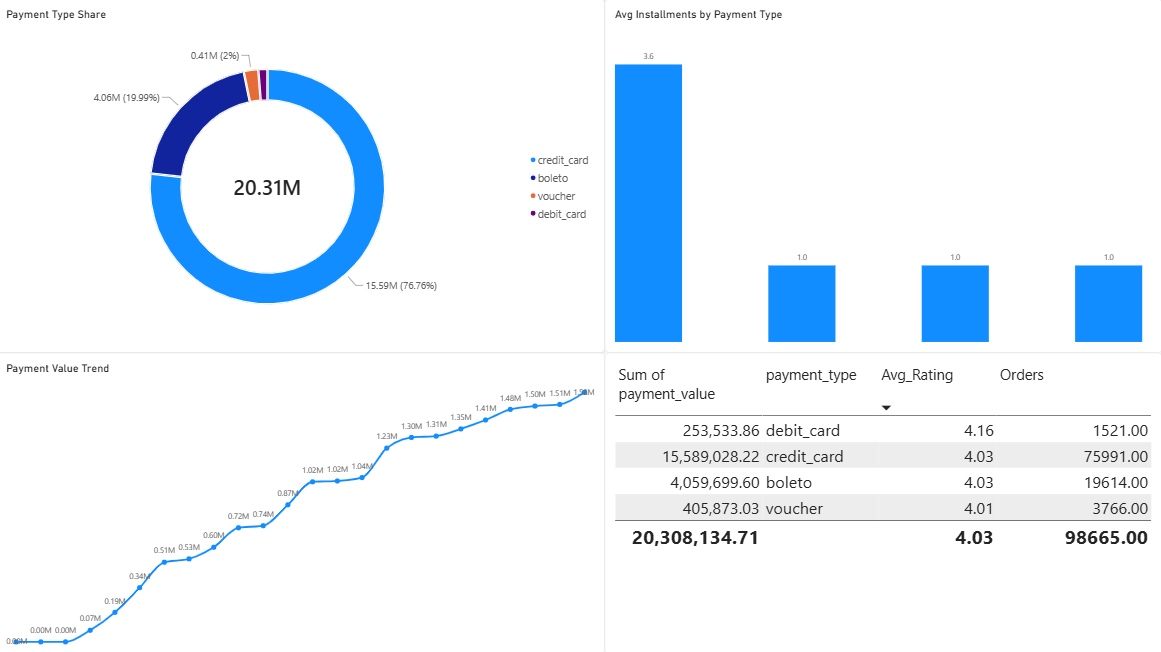

What the dashboard file says about the page in this screenshot:
{"tool":"powerbi","page":{"name":"Payments","canvas":[1920,1080],"ordinal":6},"visuals":[{"type":"donutChart","title":"Payment Type Share","fields":{"Category":["public bi_fact_sales.payment_type"],"Y":["Sum(public bi_fact_sales.payment_value)"]},"box":[0,0,1002.4,582.5],"z":0},{"type":"clusteredColumnChart","title":"Avg Installments by Payment Type","fields":{"Category":["public bi_fact_sales.payment_type"],"Y":["public bi_fact_sales.Avg_Installments"]},"box":[1002.4,0,918,582.5],"z":1000},{"type":"lineChart","title":"Payment Value Trend","fields":{"Category":["DimDate.Year-Month"],"Y":["Sum(public bi_fact_sales.payment_value)"]},"box":[0,582.5,1002.4,498.1],"z":2000},{"type":"tableEx","title":"Category X Year","fields":{"Values":["Sum(public bi_fact_sales.payment_value)","public bi_fact_sales.payment_type","public bi_fact_sales.Avg_Rating","public bi_fact_sales.Orders"]},"box":[1002.4,582.5,918,498.1],"z":3000}]}

Visuals, with their boxes in screenshot pixels (x1, y1, x2, y2), scaled from the page's 1920x1080 canvas onto the 1161x652 screenshot:
"Payment Type Share" donutChart: 0:0:606:352
"Avg Installments by Payment Type" clusteredColumnChart: 606:0:1160:352
"Payment Value Trend" lineChart: 0:352:606:651
"Category X Year" tableEx: 606:352:1160:651
